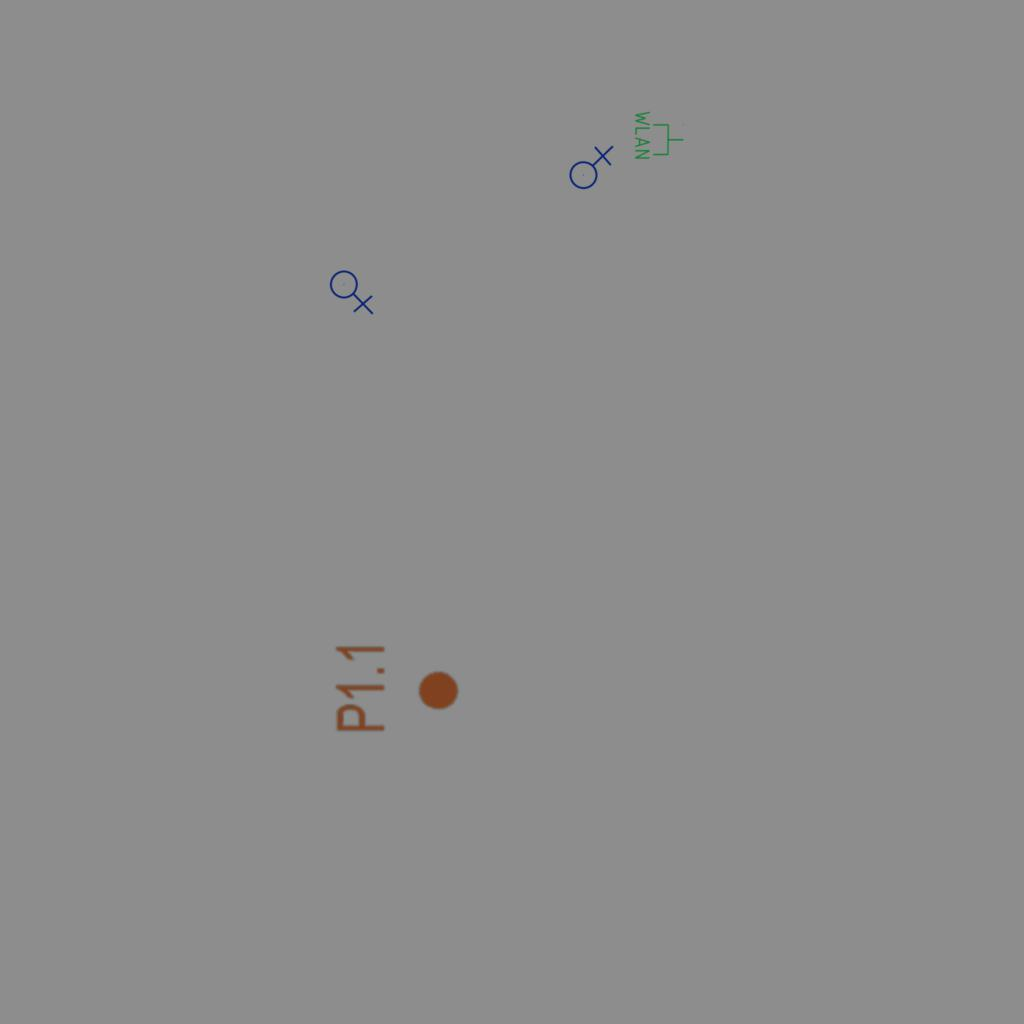Downlight_LED_Einbauleuchten_Flur: (333, 641, 461, 734)
Elektroanschluss_allgemein_230V_Geraeteanschlussdose_230V: (329, 266, 376, 315), (565, 143, 614, 190)
WLAN: (633, 109, 685, 161)
